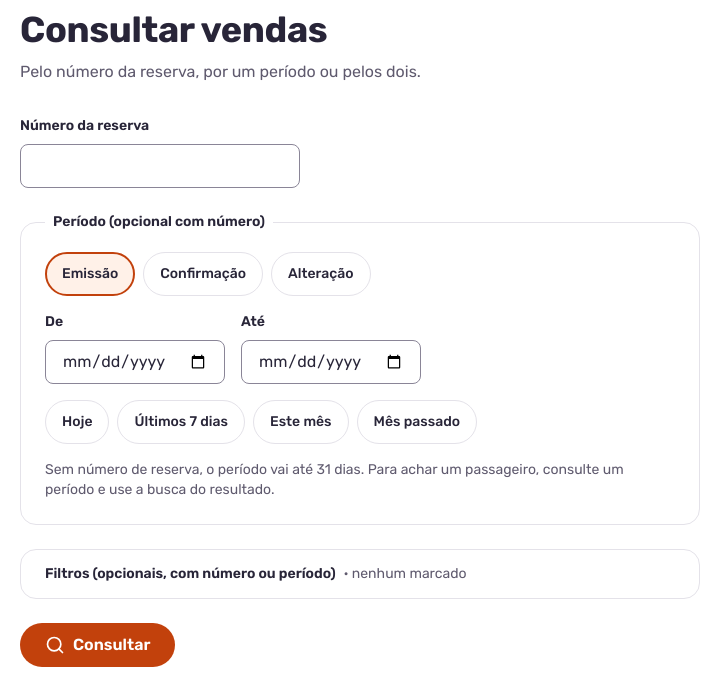
Test: colar texto longo com o número não corta o número antes de tirar as letras
Later steps or results of the test are not shown.
Click the field labelled "Número da reserva" at [160, 166], box [20,144,300,188]
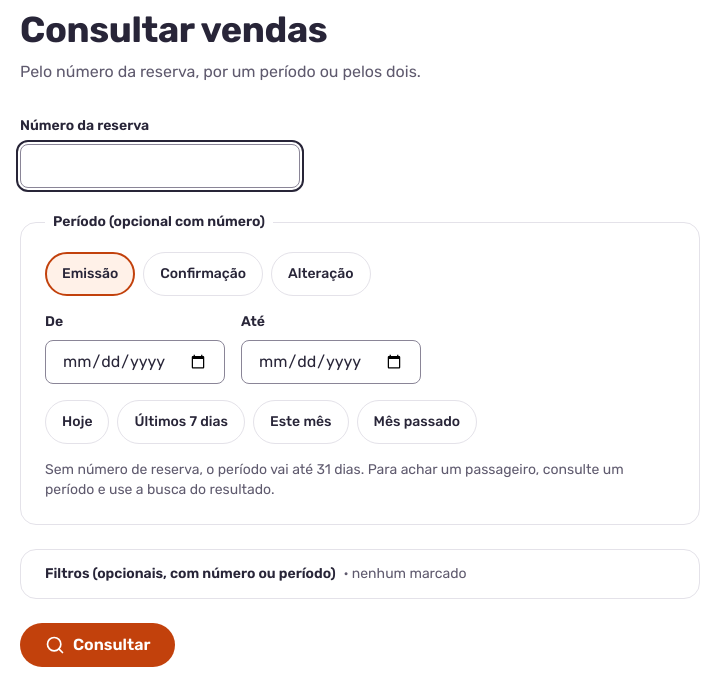
Type keys "Reserva 90000001"
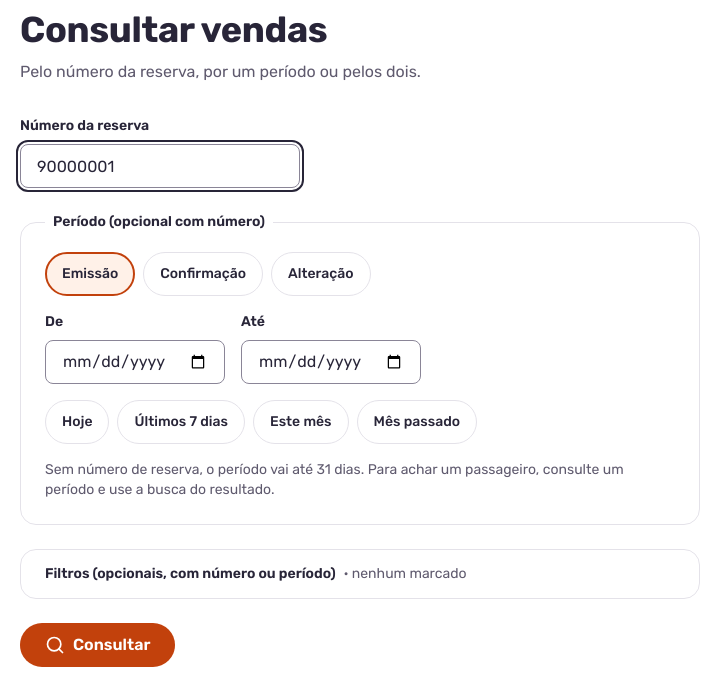
Expected: the field labelled "Número da reserva" holds "90000001", [20,144,300,188]
